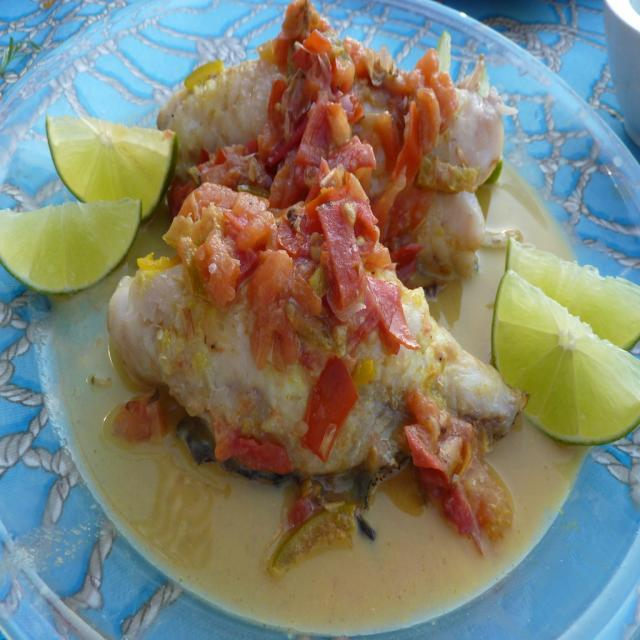Lemon: (491, 270, 640, 442), (45, 117, 180, 225), (506, 243, 640, 349), (1, 205, 141, 297)
